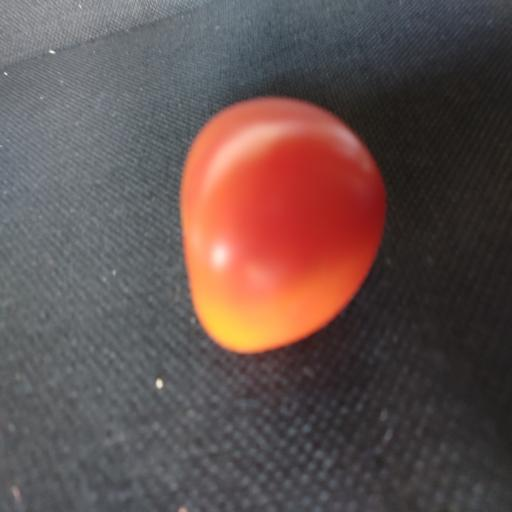ripe: (180, 98, 386, 353)
